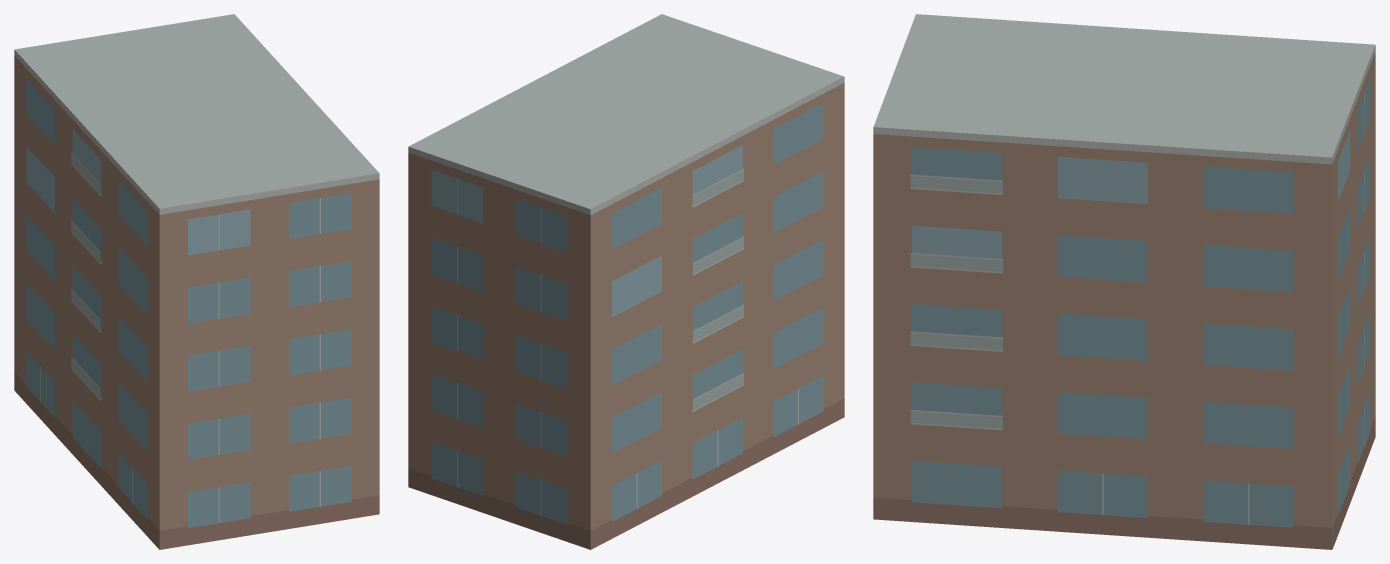
File: survey-upis-32539068.glb
3 renders of one model, left to right at view 1: azimuth 30°, elevation 25°; view 2: azimuth 150°, elevation 25°; view 3: azimuth 270°, elevation 25°, orthographic. The views are drawn at different scales.
Visible parts, largest first — view 1: survey-upis-32539068.tmp; view 2: survey-upis-32539068.tmp; view 3: survey-upis-32539068.tmp.
Part boxes in pixels (x1,y1,x2,y2): survey-upis-32539068.tmp: [14, 14, 379, 549]; survey-upis-32539068.tmp: [408, 14, 844, 549]; survey-upis-32539068.tmp: [873, 14, 1375, 549].
Bounding box in the file's own units: 10.92 × 13.9 × 16.14.
